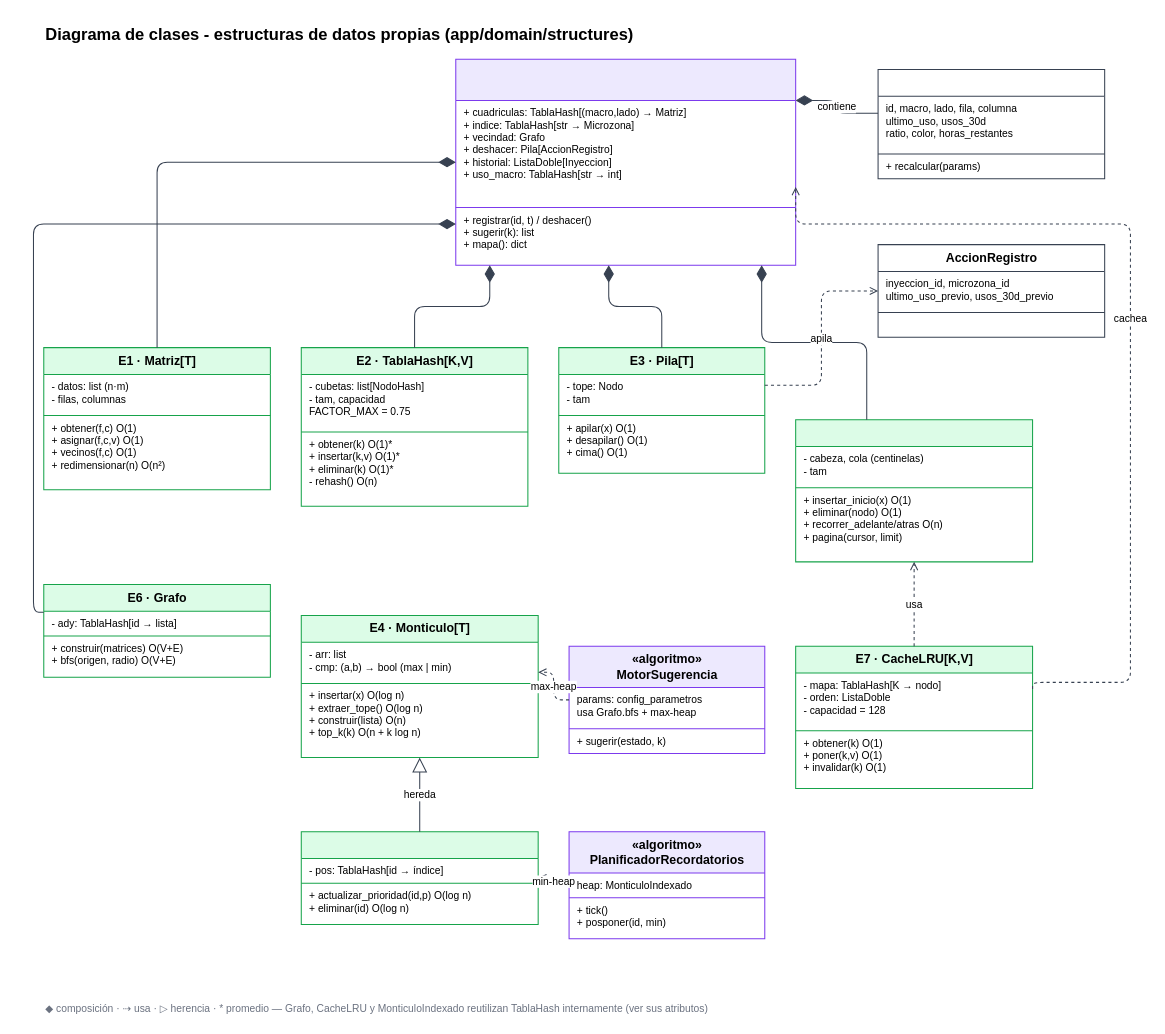
Image size: 1165x1034. Some labels were removed from this diagram. Each missing label, with the box of its shape:
E5 · ListaDoble[T]: (795, 419, 1033, 562)
Microzona: (877, 68, 1105, 179)
MonticuloIndexado: (300, 831, 538, 924)
«dominio» EstadoPaciente: (455, 58, 796, 265)
